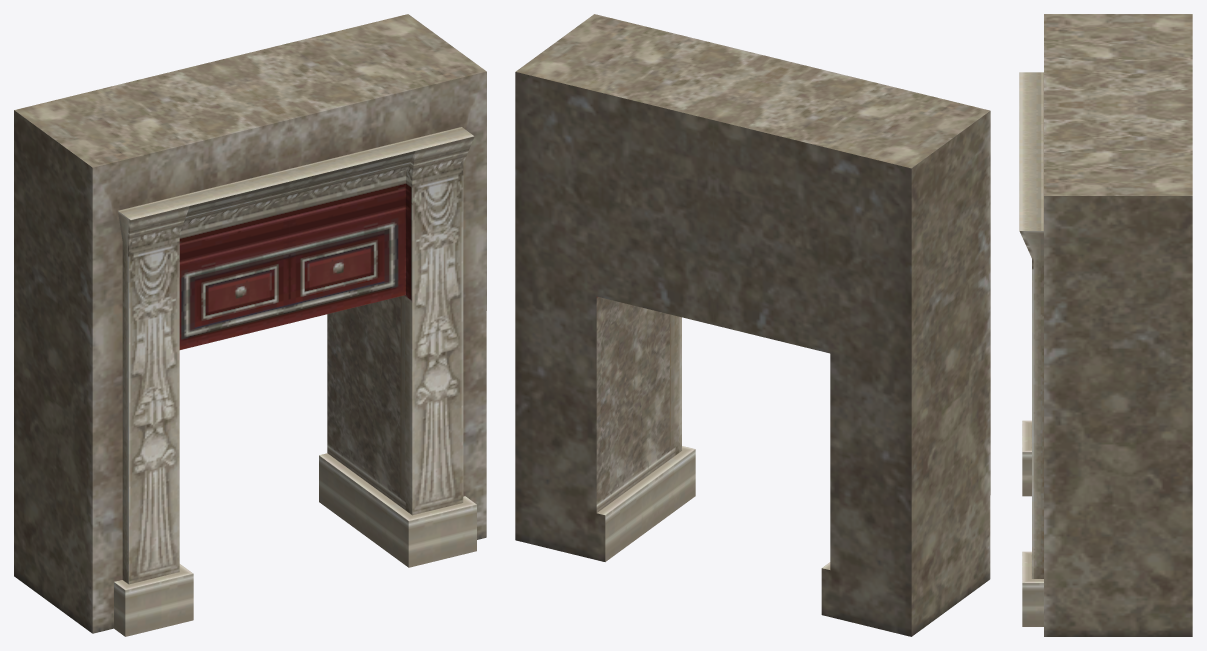
Rendered from furni_0201124_02.FBX.
The picture shows the model from 3 angles, left to right: view 1: azimuth 30°, elevation 25°; view 2: azimuth 150°, elevation 25°; view 3: azimuth 270°, elevation 25°; orthographic projection. The views are drawn at different scales.
Visible parts, largest first — view 1: furni_0201124_02; view 2: furni_0201124_02; view 3: furni_0201124_02.
Boxes of the visible parts, bbox=[...] form: furni_0201124_02: bbox=[14, 14, 486, 636]; furni_0201124_02: bbox=[515, 14, 990, 636]; furni_0201124_02: bbox=[1019, 14, 1192, 636].
Bounding box in the file's own units: 160 × 181 × 64.4.
Materials: 1 (1 with a texture image).
